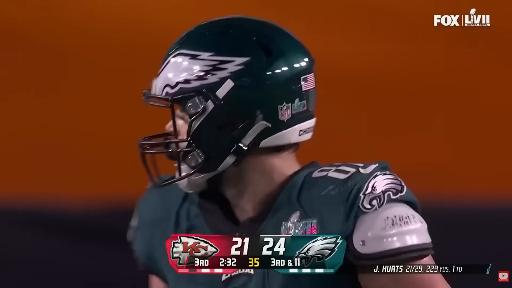Helmet: (139, 17, 315, 190)
Jersey: (129, 185, 359, 287)
Player: (130, 17, 449, 287)
